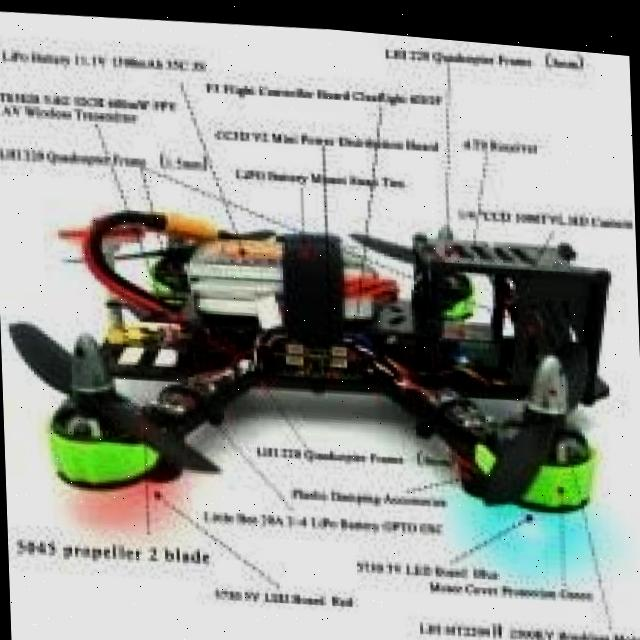drone: (14, 176, 612, 556)
